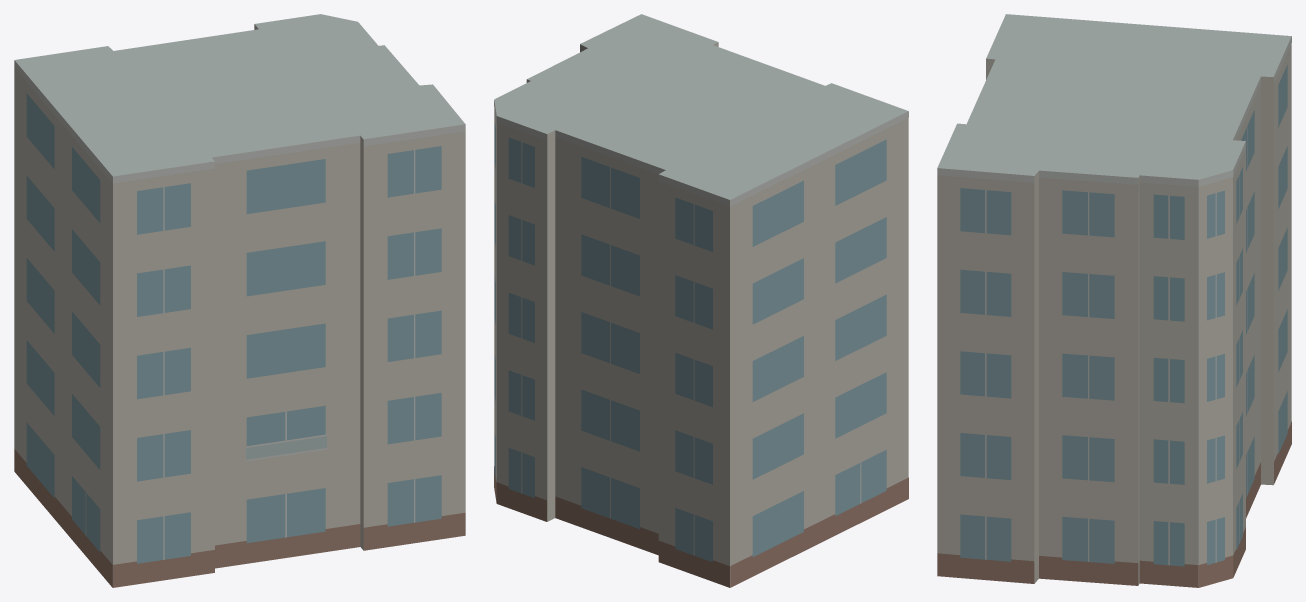
Rendered from survey-upis-32531626.glb.
The picture shows the model from 3 angles, left to right: view 1: azimuth 30°, elevation 25°; view 2: azimuth 150°, elevation 25°; view 3: azimuth 270°, elevation 25°; orthographic projection. The views are drawn at different scales.
Parts seen in each view (by area): view 1: survey-upis-32531626.tmp; view 2: survey-upis-32531626.tmp; view 3: survey-upis-32531626.tmp.
Boxes of the visible parts, x1,y1,x2,y2 form: survey-upis-32531626.tmp: [14, 14, 465, 587]; survey-upis-32531626.tmp: [494, 14, 908, 587]; survey-upis-32531626.tmp: [937, 14, 1291, 587].
Bounding box in the file's own units: 12.43 × 14.25 × 11.23.
